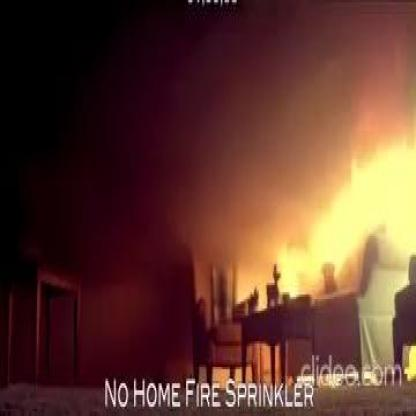fire: (279, 142, 416, 285)
